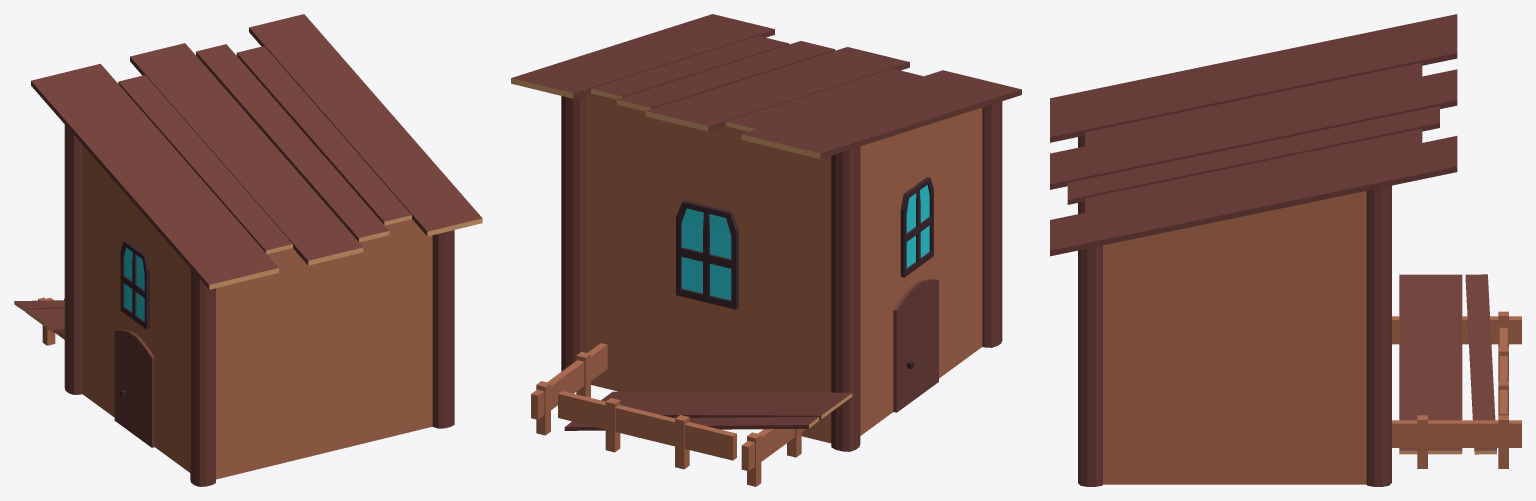
The model's file is sawmill.fbx.
The picture shows the model from 3 angles, left to right: view 1: azimuth 30°, elevation 25°; view 2: azimuth 150°, elevation 25°; view 3: azimuth 270°, elevation 25°; orthographic projection. The views are drawn at different scales.
Visible parts, largest first — view 1: Cube.012, Cube.005, Cube.011, Cube.003, Cube.002, Cube.001, Cube.004, Cube.009, Cube.006, Cube.008, Cube.010, Cube (+1 smaller); view 2: Cube.012, Cube.005, Cube.006, Cube.011, Cube.003, Cube.007, Cube.016, Cube.013, Cube.009, Cube.010, poziom.001, Cube.002 (+10 smaller); view 3: Cube.012, Cube.005, Cube.011, Cube.003, Cube.013, Cube.007, Cube.002, Cube.008, Cube.001, Cube.004, Cube.014, poziom.002 (+4 smaller).
Part boxes in pixels (<box>): Cube.012: <box>82,145,432,479</box>; Cube.005: <box>31,63,278,289</box>; Cube.011: <box>249,14,482,236</box>; Cube.003: <box>130,43,363,265</box>; Cube.002: <box>196,44,389,242</box>; Cube.001: <box>236,46,411,225</box>; Cube.004: <box>118,75,292,254</box>; Cube.009: <box>190,268,215,486</box>; Cube.006: <box>64,124,82,394</box>; Cube.008: <box>432,230,454,428</box>; Cube.010: <box>114,330,154,447</box>; Cube: <box>120,240,149,329</box>; Cube.012: <box>586,93,982,443</box>; Cube.005: <box>741,70,1021,158</box>; Cube.006: <box>831,146,860,451</box>; Cube.011: <box>511,14,774,98</box>; Cube.003: <box>645,47,909,131</box>; Cube.007: <box>561,95,585,371</box>; Cube.016: <box>676,200,738,309</box>; Cube.013: <box>601,391,852,419</box>; Cube.009: <box>982,101,1002,347</box>; Cube.010: <box>893,279,938,412</box>; poziom.001: <box>558,391,736,460</box>; Cube.002: <box>616,41,835,111</box>; Cube.012: <box>1103,191,1366,484</box>; Cube.005: <box>1050,14,1457,142</box>; Cube.011: <box>1050,136,1457,256</box>; Cube.003: <box>1050,69,1457,189</box>; Cube.013: <box>1399,274,1462,454</box>; Cube.007: <box>1366,185,1391,486</box>; Cube.002: <box>1067,106,1439,204</box>; Cube.008: <box>1078,245,1102,486</box>; Cube.001: <box>1085,128,1422,212</box>; Cube.004: <box>1085,62,1422,146</box>; Cube.014: <box>1465,274,1496,454</box>; poziom.002: <box>1392,420,1521,447</box>.
Bounding box in the file's own units: 5.7 × 5.64 × 7.37.
